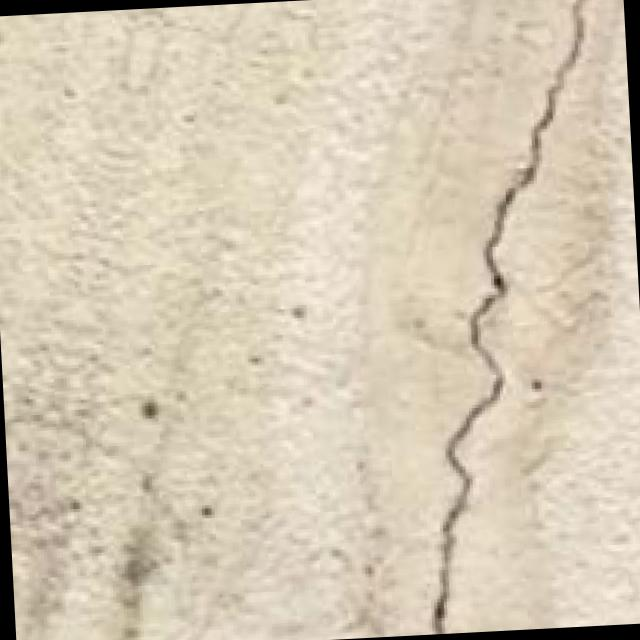crack: (392, 0, 640, 632)
